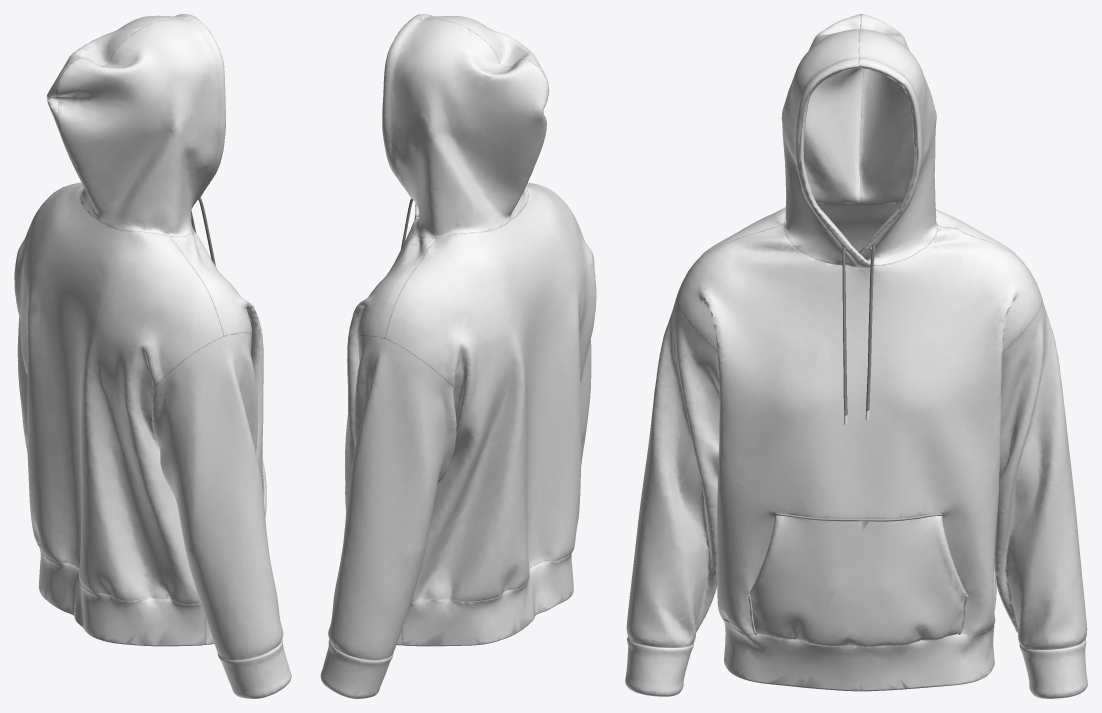
Rendered from hoodie.glb.
3 views of the same model, side by side, from view 1: azimuth 30°, elevation 25°; view 2: azimuth 150°, elevation 25°; view 3: azimuth 270°, elevation 25° (orthographic). The views are drawn at different scales.
Parts seen in each view (by area): view 1: Object_2; view 2: Object_2; view 3: Object_2.
Boxes of the visible parts, x1,y1,x2,y2 form: Object_2: (14, 14, 291, 698); Object_2: (320, 14, 596, 698); Object_2: (625, 14, 1087, 698).
Size of the model in its own units: 0.2989 by 0.9485 by 0.6057.
1 material, 1 textured.
